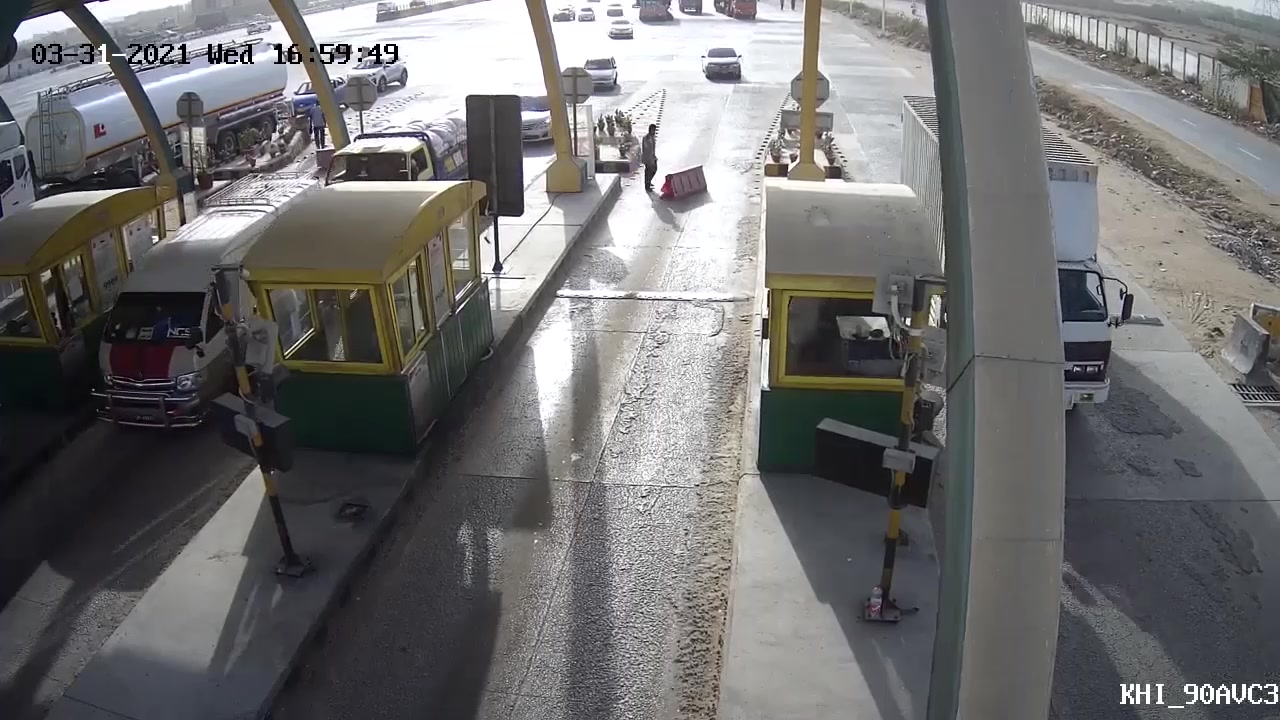F1: (701, 44, 748, 87)
